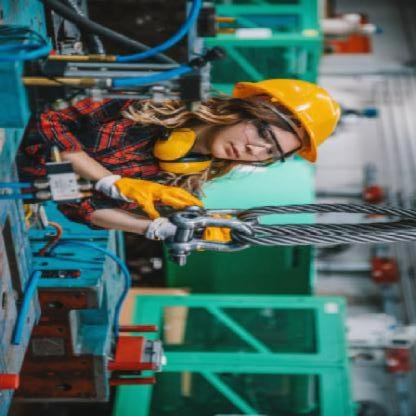yellow: (241, 70, 347, 167)
